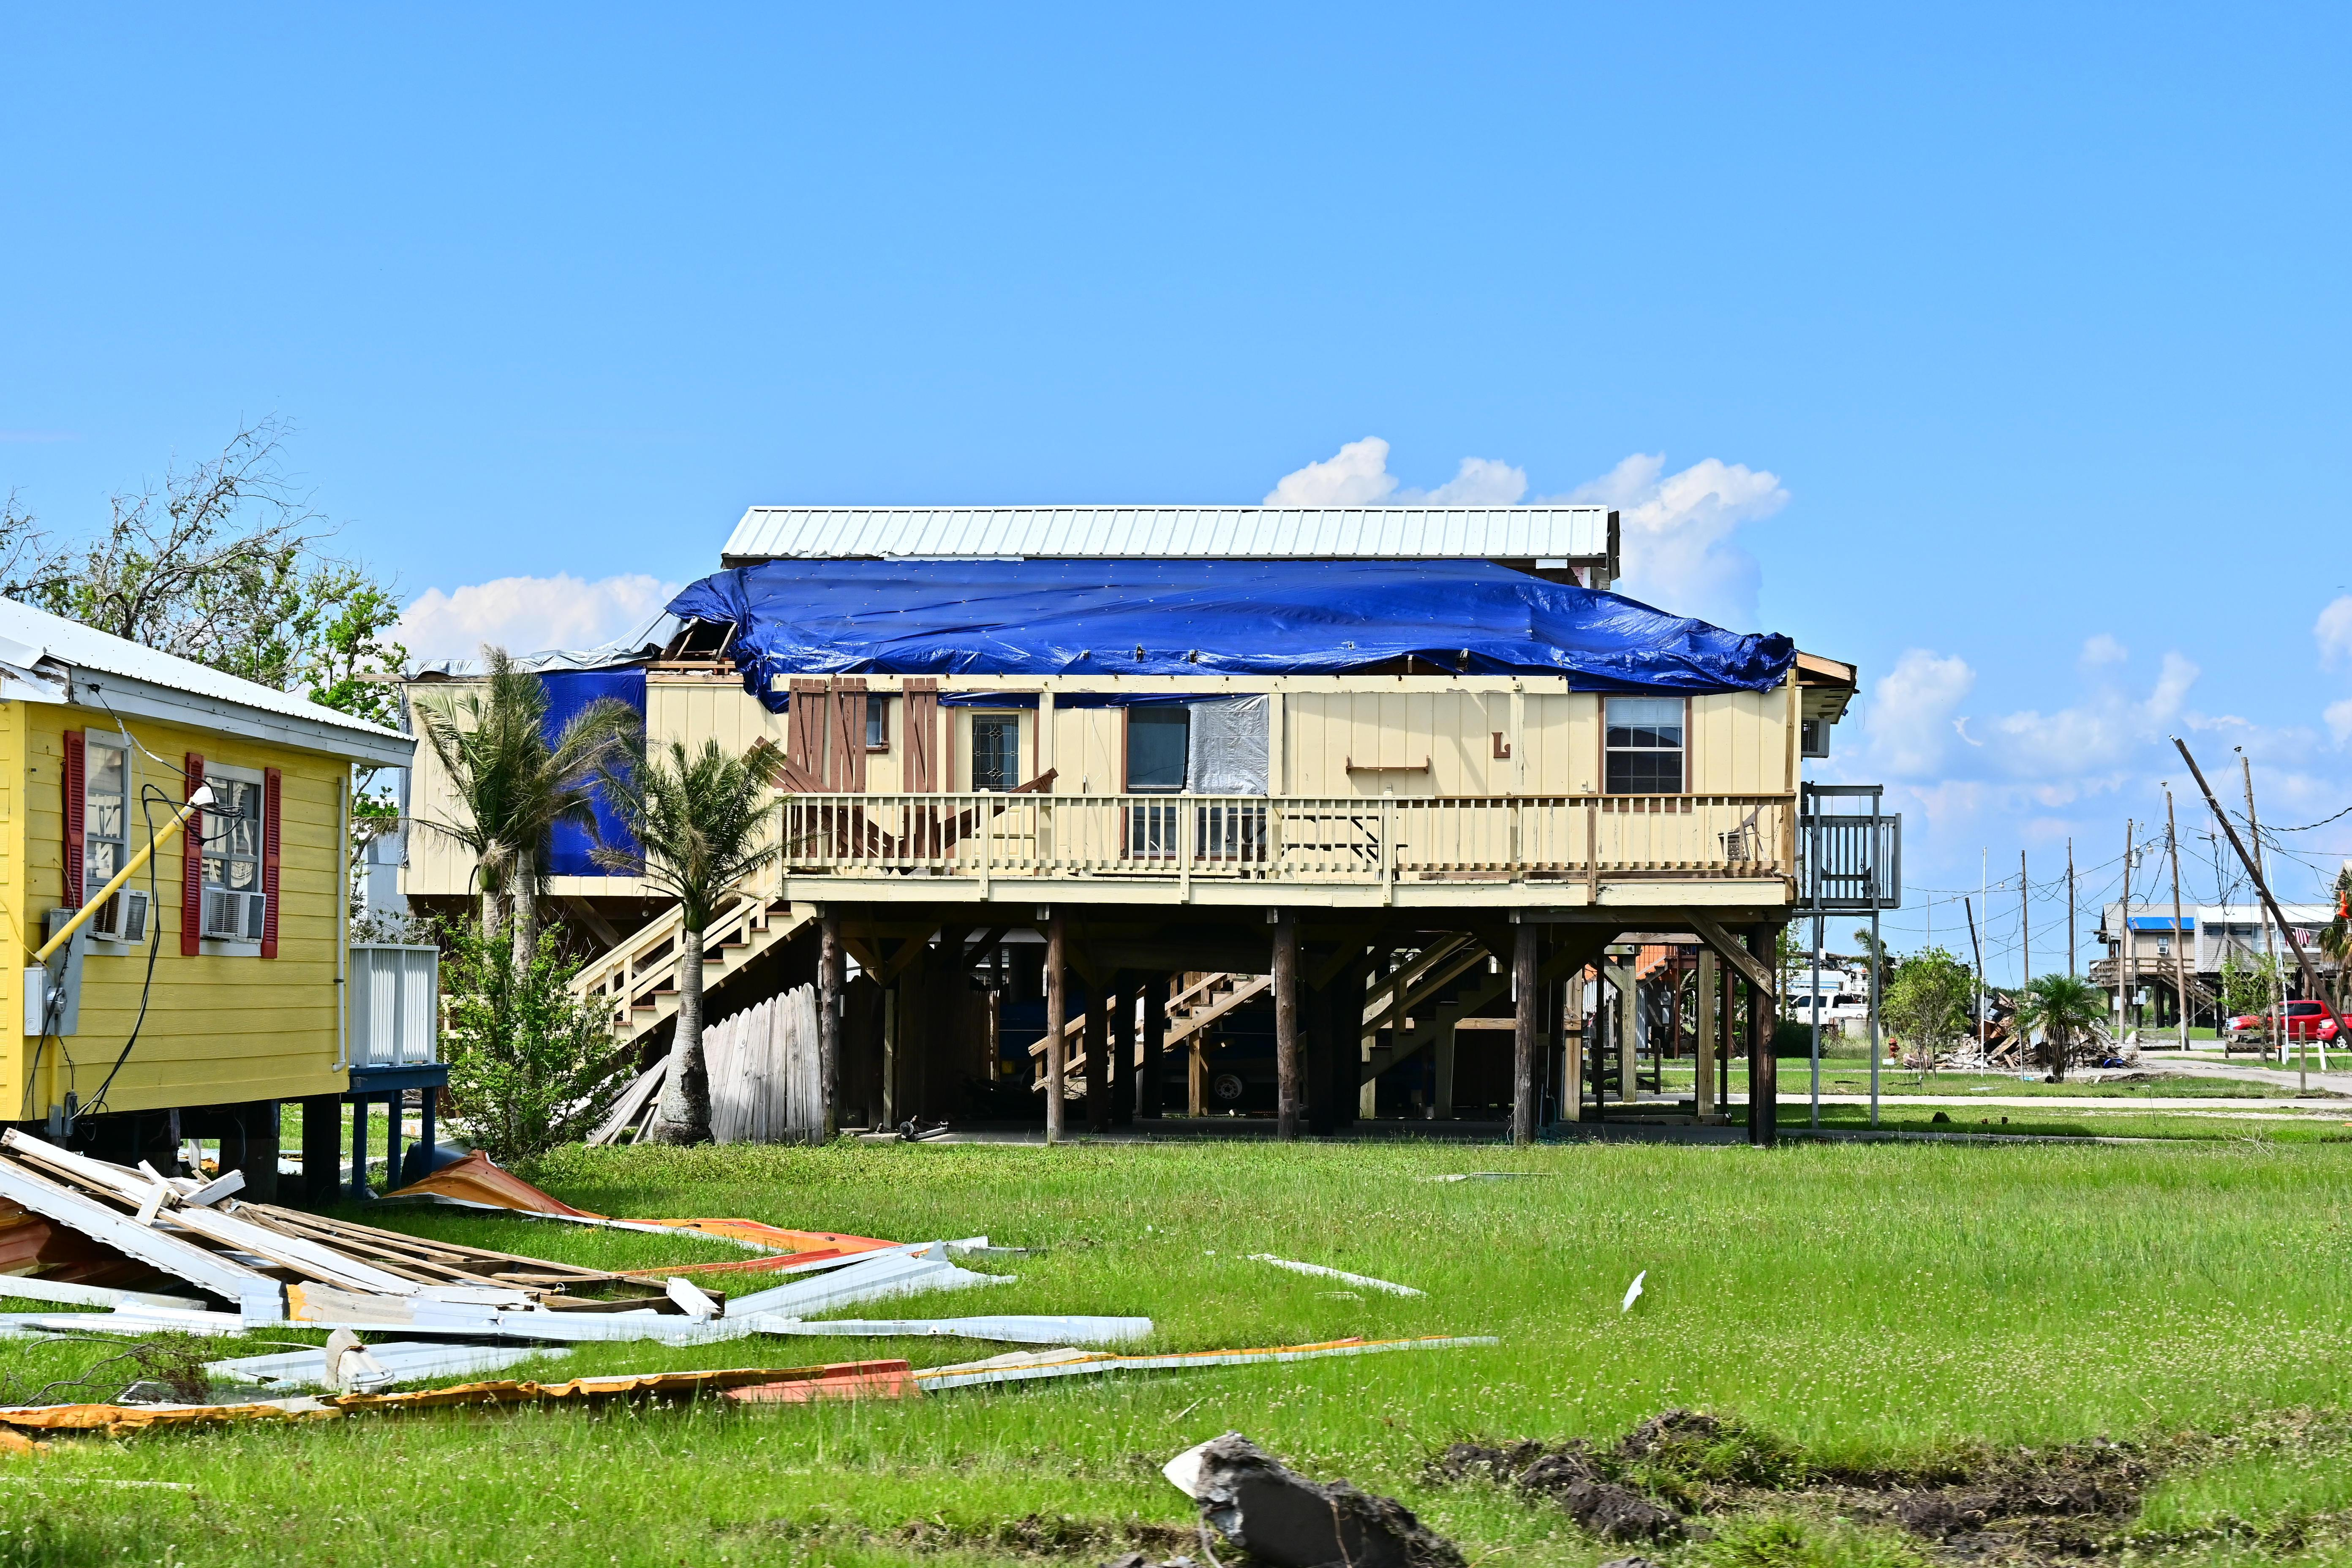major: (355, 483, 1948, 1172)
